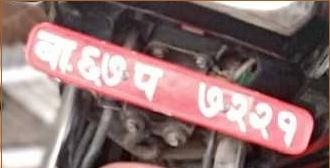1: (273, 106, 304, 149)
2: (249, 93, 274, 145), (226, 92, 249, 135)
6: (77, 42, 102, 88)
7: (188, 81, 226, 122), (101, 46, 129, 91)
ba: (31, 28, 77, 76)
pa: (132, 60, 167, 106)
